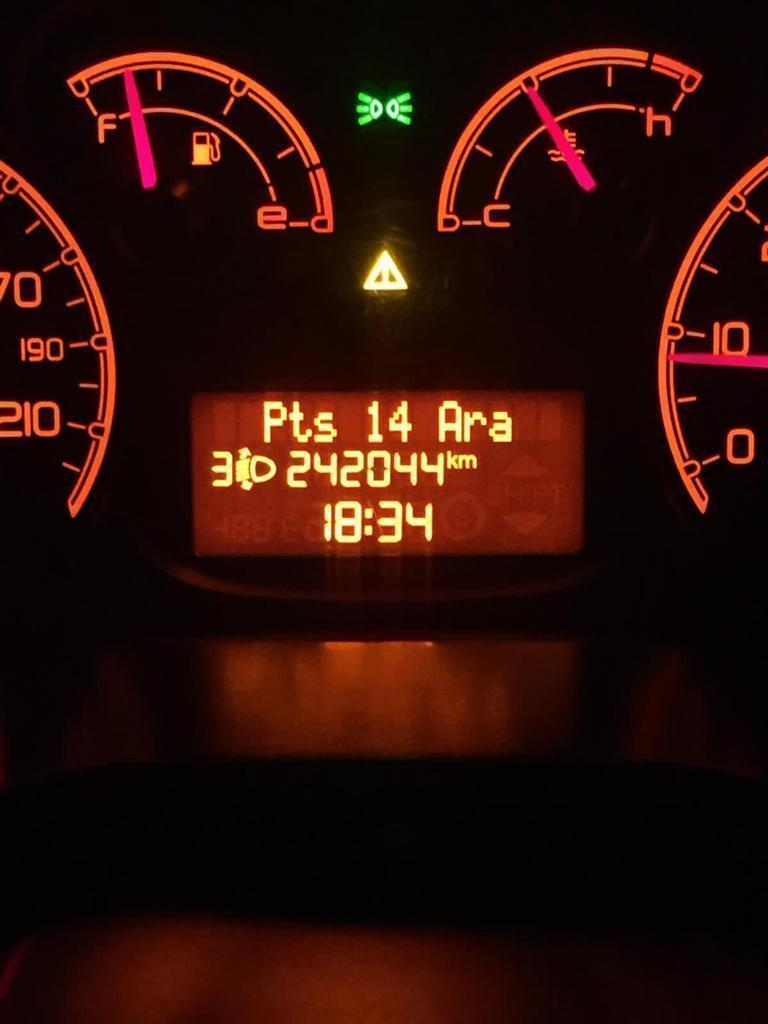0: (365, 448, 391, 489)
1: (367, 397, 384, 446), (320, 499, 333, 544)
2: (284, 447, 309, 493), (341, 447, 364, 489)
3: (376, 499, 403, 545), (210, 446, 233, 490)
4: (388, 398, 418, 447), (404, 498, 435, 544), (419, 448, 445, 487), (392, 450, 418, 487), (313, 448, 337, 488)
8: (334, 499, 362, 544)
X: (436, 396, 462, 442), (262, 399, 286, 443), (487, 408, 514, 445), (290, 398, 312, 443), (313, 409, 339, 445), (462, 408, 487, 443), (459, 451, 477, 471), (364, 504, 373, 539), (445, 447, 458, 470)
odometer: (184, 386, 589, 563)
